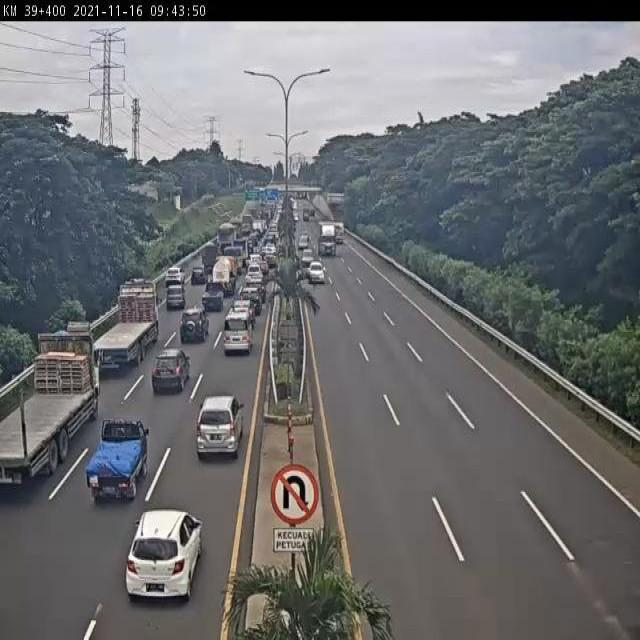car: (127, 509, 203, 603), (88, 420, 151, 505), (196, 395, 243, 457), (152, 351, 190, 392), (223, 314, 253, 354), (179, 310, 209, 346), (202, 281, 226, 315), (230, 300, 254, 333), (240, 287, 262, 313), (166, 286, 186, 310), (165, 267, 186, 288), (248, 277, 268, 299), (189, 265, 206, 287), (246, 265, 264, 284), (308, 263, 323, 281), (301, 246, 313, 262), (248, 254, 264, 266), (299, 233, 308, 250)
small truck: (200, 242, 221, 270), (224, 246, 243, 274)
truck-l-: (0, 335, 101, 477), (93, 282, 160, 366), (318, 223, 336, 256)
truck-m-: (212, 258, 235, 298), (217, 223, 237, 253)
